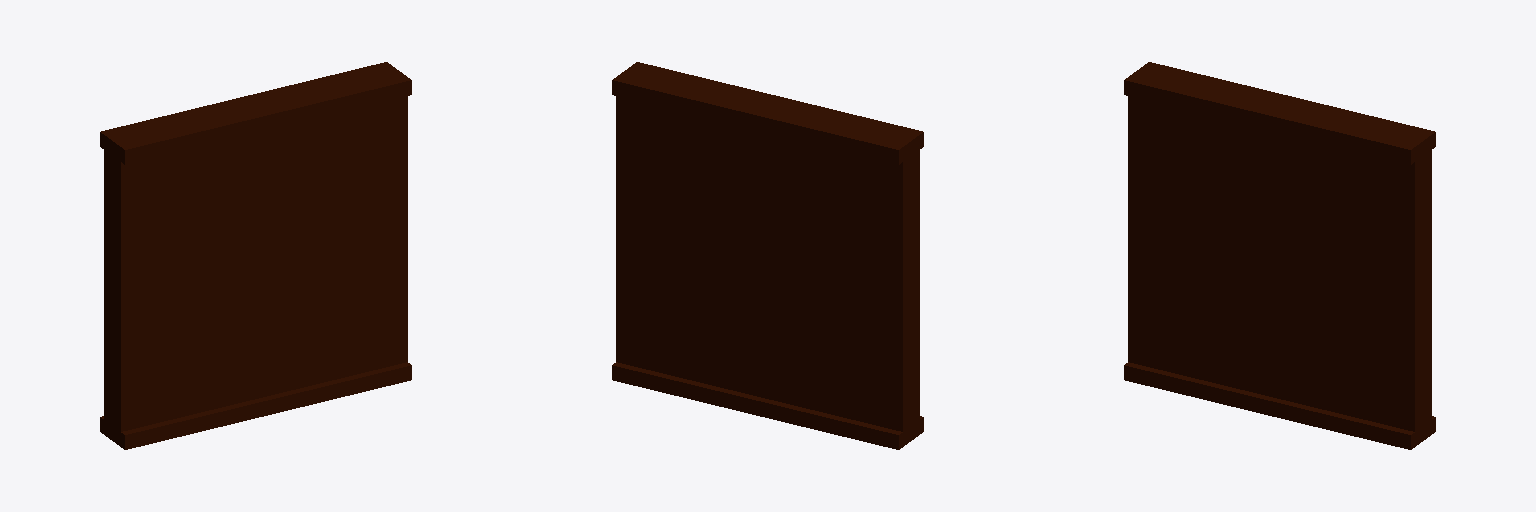
File: 4x4_wall.obj
3 views of the same model, side by side, from view 1: azimuth 30°, elevation 25°; view 2: azimuth 150°, elevation 25°; view 3: azimuth 330°, elevation 25° (orthographic).
Visible parts, largest first — view 1: wall; view 2: wall; view 3: wall.
Part boxes in pixels (bbox=[...]): wall: bbox=[100, 62, 411, 449]; wall: bbox=[612, 62, 923, 449]; wall: bbox=[1124, 62, 1435, 449].
Bounding box in the file's own units: 4 × 4 × 0.607.